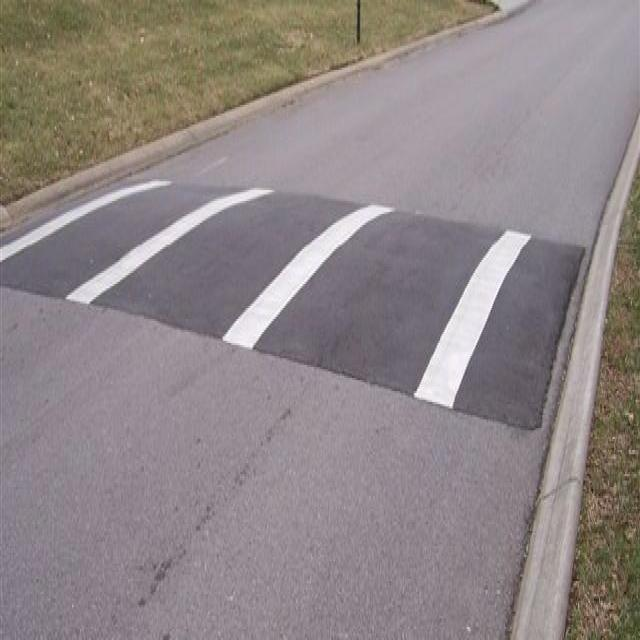speedbreaker: (2, 172, 588, 430)
